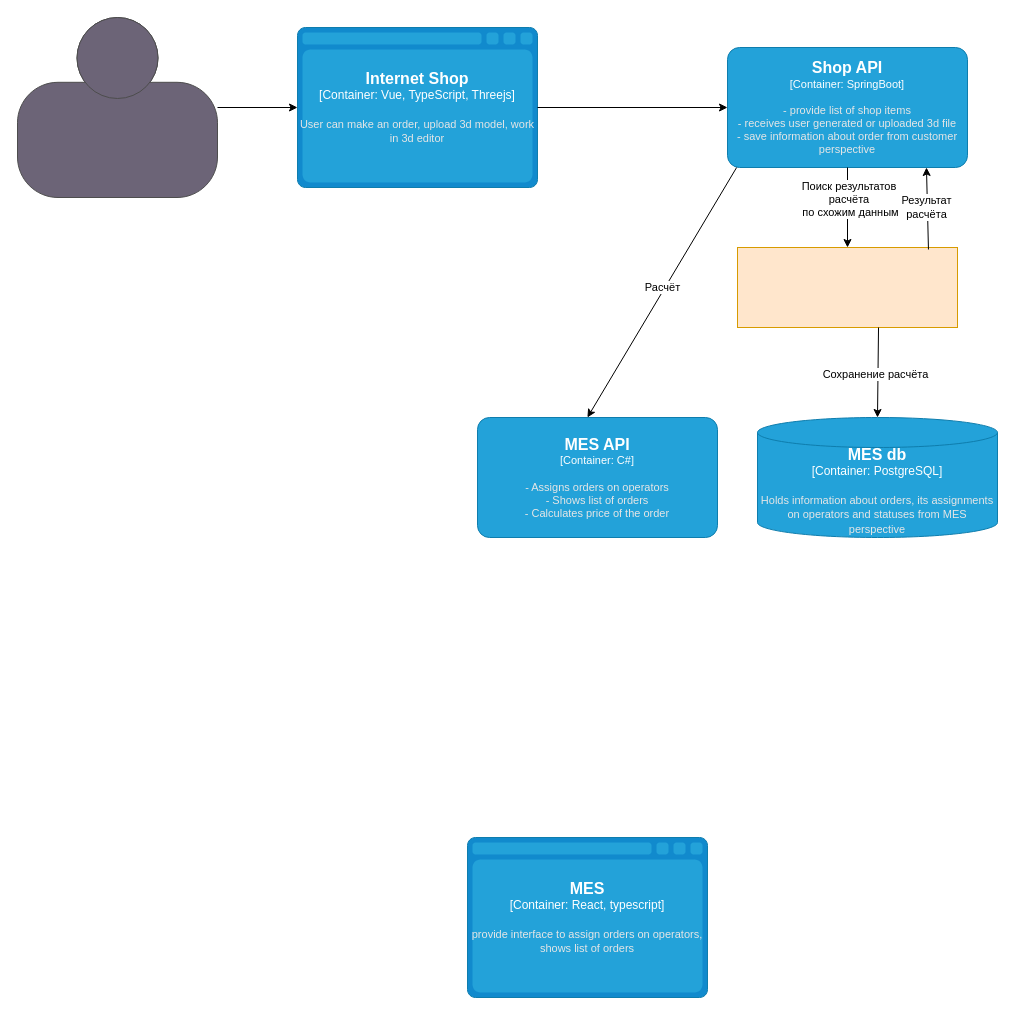
This 1015x1015 diagram has some shape labels left out. The box of each missing label's shape, as (x1, y1, x2, y2) in pixels:
Customer [Person] Description of external person.: (16, 16, 218, 198)
Redis Cache: (736, 246, 958, 328)
